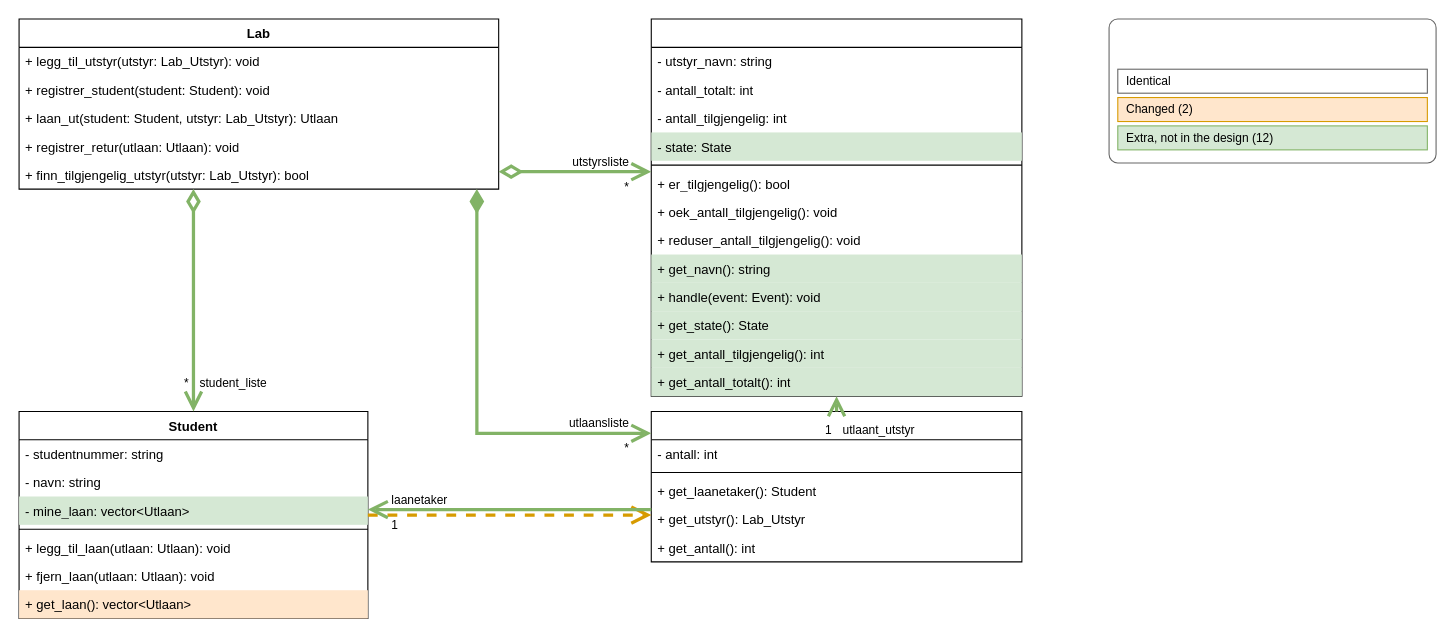
The diagram is 1455 pixels wide and 641 high, and some of its shapes have lost their labels. Here are the shapes that lost their labels. From the top down, the box of each, then its label:
(1108, 18, 1436, 163): IMPLEMENTED DESIGN built by AI · extracted from impl/include
(650, 18, 1022, 396): Lab_Utstyr
(650, 410, 1022, 562): Utlaan
